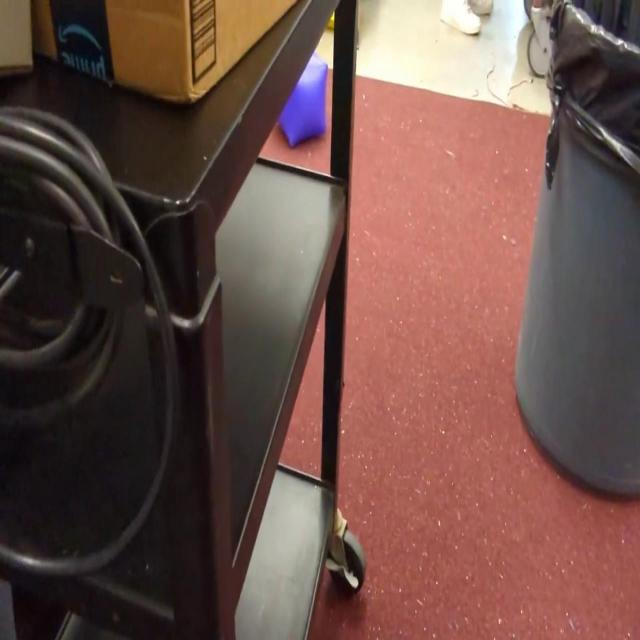frc_cube: (279, 46, 327, 148)
